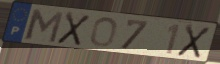1: (165, 23, 182, 55)
7: (120, 18, 151, 52)
M: (23, 7, 66, 44)
O: (89, 16, 120, 49)
X: (55, 11, 92, 48), (175, 23, 212, 60)
